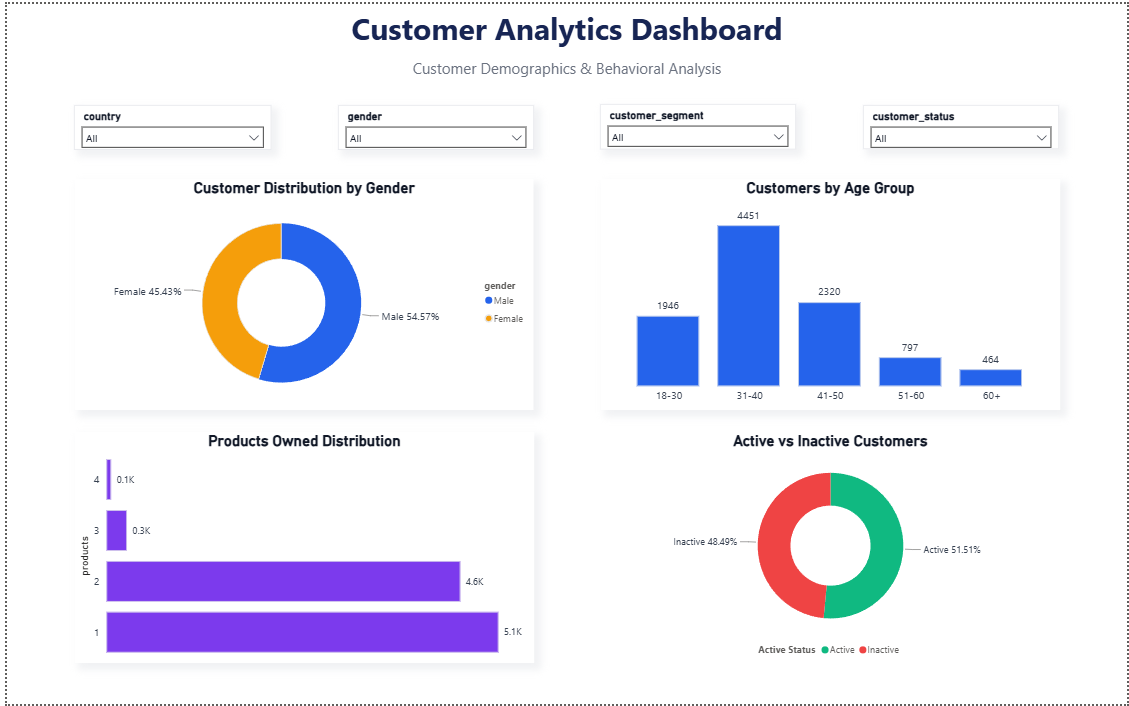

The dashboard page shown, as its layout file describes it:
{"tool":"powerbi","page":{"name":"Customer Analytics","canvas":[1600,1000],"ordinal":1},"visuals":[{"type":"textbox","box":[0,0,1600,71.4],"z":0},{"type":"textbox","box":[0,71.4,1600,71.4],"z":1000},{"type":"slicer","fields":{"Values":["customers_processed.country"]},"box":[95.8,144.2,281.6,63.7],"z":2000,"group":"g1"},{"type":"donutChart","title":"Customer Distribution by Gender","fields":{"Category":["customers_processed.gender"],"Y":["customers_processed.Total Customers"]},"box":[97,250,655,330],"z":2000},{"type":"slicer","fields":{"Values":["customers_processed.gender"]},"box":[472.5,144.3,280,63.8],"z":3000,"group":"g1"},{"type":"clusteredColumnChart","title":"Customers by Age Group","fields":{"Category":["customers_processed.age_group"],"Y":["customers_processed.Total Customers"]},"box":[848.6,250,655.7,330],"z":3000},{"type":"slicer","fields":{"Values":["customers_processed.customer_status"]},"box":[1223.3,144.4,280,63.3],"z":4000,"group":"g1"},{"type":"clusteredBarChart","title":"Products Owned Distribution","fields":{"Category":["customers_processed.products"],"Y":["customers_processed.Total Customers"]},"box":[97.1,611.4,655.7,330],"z":4000},{"type":"slicer","fields":{"Values":["customers_processed.customer_segment"]},"box":[847.5,143.1,280,65],"z":5000,"group":"g1"},{"type":"donutChart","title":"Active vs Inactive Customers","fields":{"Category":["customers_processed.Active Status"],"Y":["customers_processed.Total Customers"]},"box":[848.6,611.4,655.7,330],"z":5000},{"type":"group","id":"g1","title":"Group 1","box":[95.8,143.1,1407.5,65],"z":6000}]}

Visuals, with their boxes in screenshot pixels (x1, y1, x2, y2), scaled from the page's 1600x1000 canvas onto the 1129x706 screenshot:
textbox: l=0, t=0, r=1128, b=50
textbox: l=0, t=50, r=1128, b=101
slicer - customers_processed.country: l=68, t=102, r=266, b=147
"Customer Distribution by Gender" donutChart: l=68, t=176, r=531, b=409
slicer - customers_processed.gender: l=333, t=102, r=531, b=147
"Customers by Age Group" clusteredColumnChart: l=599, t=176, r=1061, b=409
slicer - customers_processed.customer_status: l=863, t=102, r=1061, b=147
"Products Owned Distribution" clusteredBarChart: l=69, t=432, r=531, b=665
slicer - customers_processed.customer_segment: l=598, t=101, r=796, b=147
"Active vs Inactive Customers" donutChart: l=599, t=432, r=1061, b=665
"Group 1" group: l=68, t=101, r=1061, b=147
